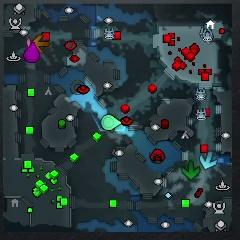p2: (102, 114, 121, 130)
p3: (24, 42, 40, 63)
x1: (26, 37, 32, 48)
x3: (199, 150, 217, 170)
x4: (182, 160, 200, 179)
x5: (32, 35, 50, 53)
